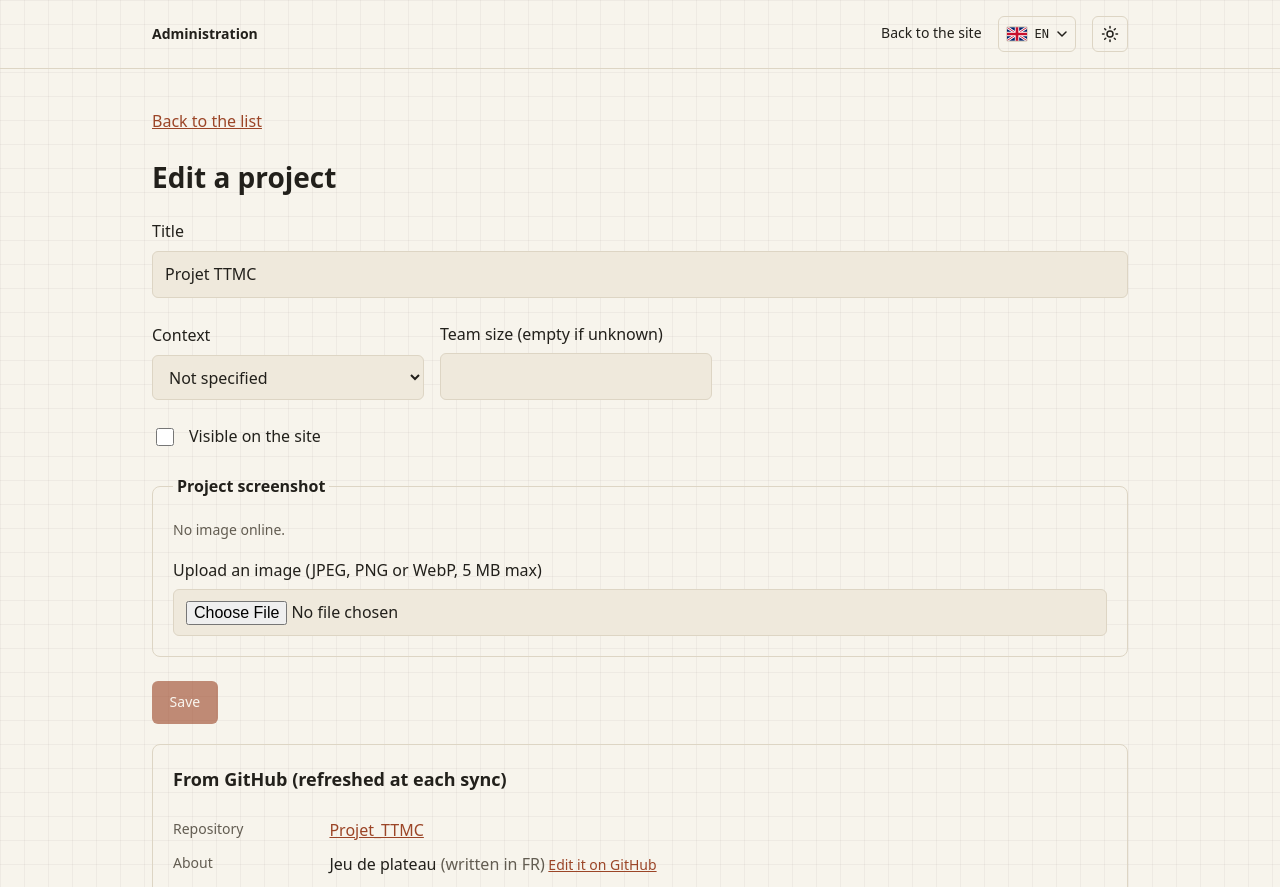
Test: project editor › edits the details and saves them
Replace the text in the field labelled "Title" with "TTMC": (640, 274) [152,251,1128,298]
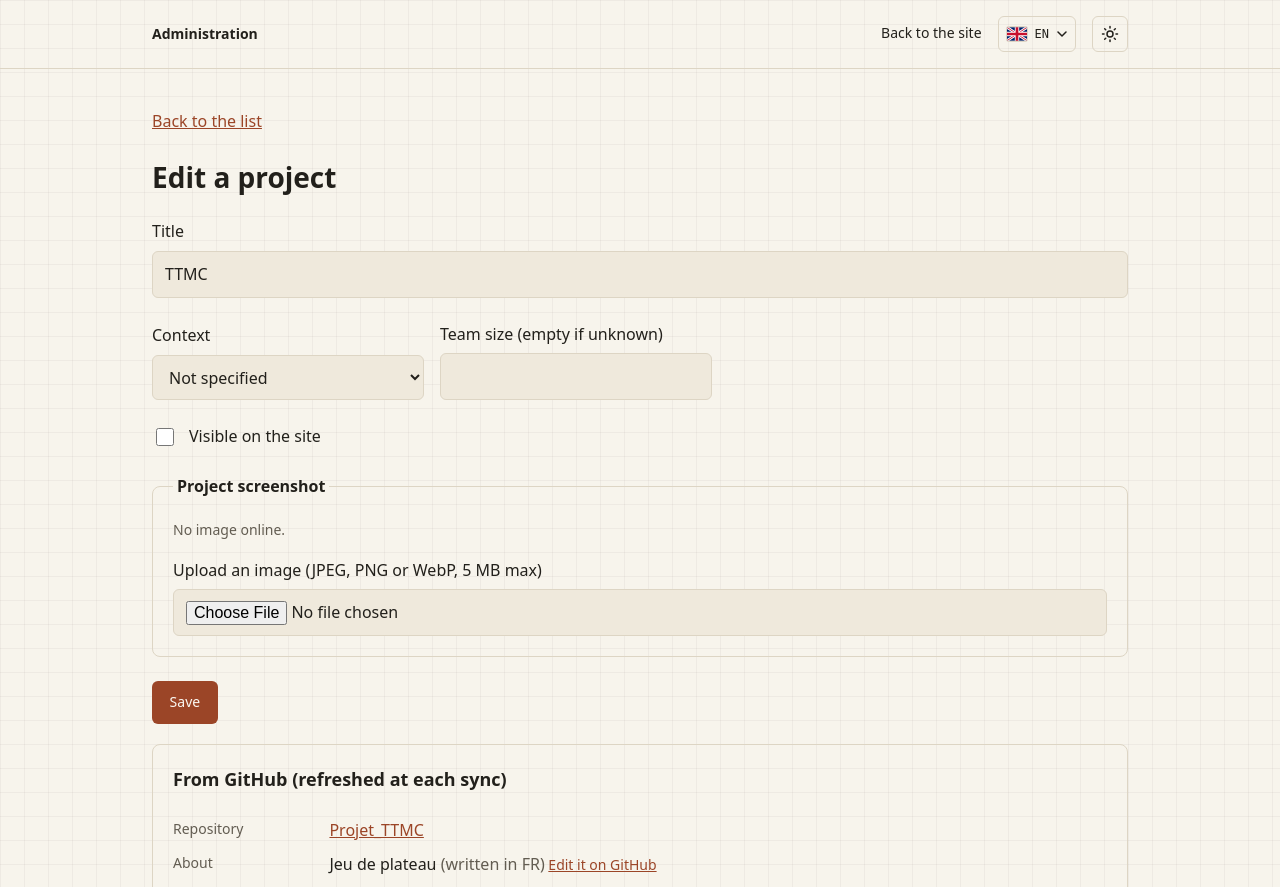
Select "School" in the dropdown labelled "Context": (288, 378) [152,355,424,400]
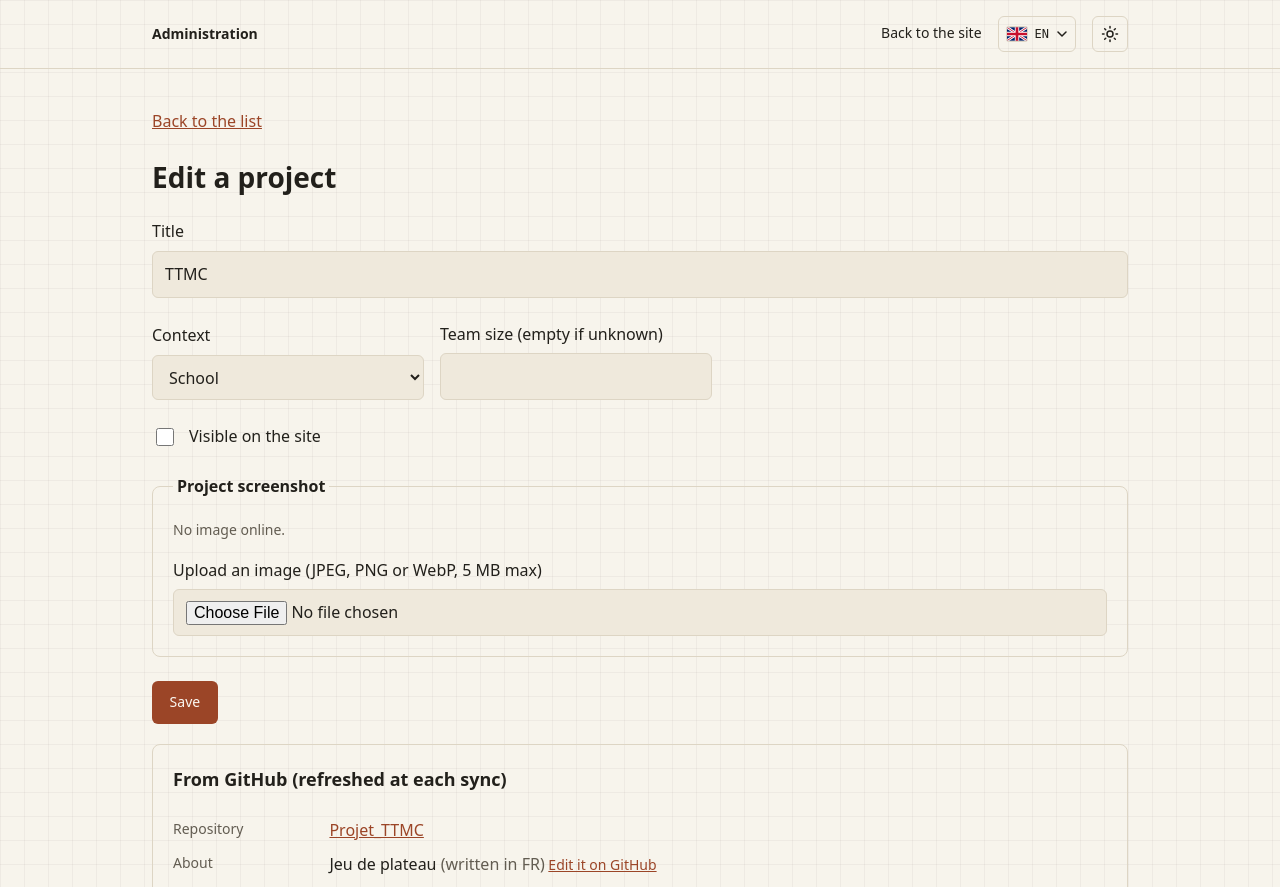
In the field labelled "Team size (empty if unknown)": (576, 377) [440,353,712,400], type "4"
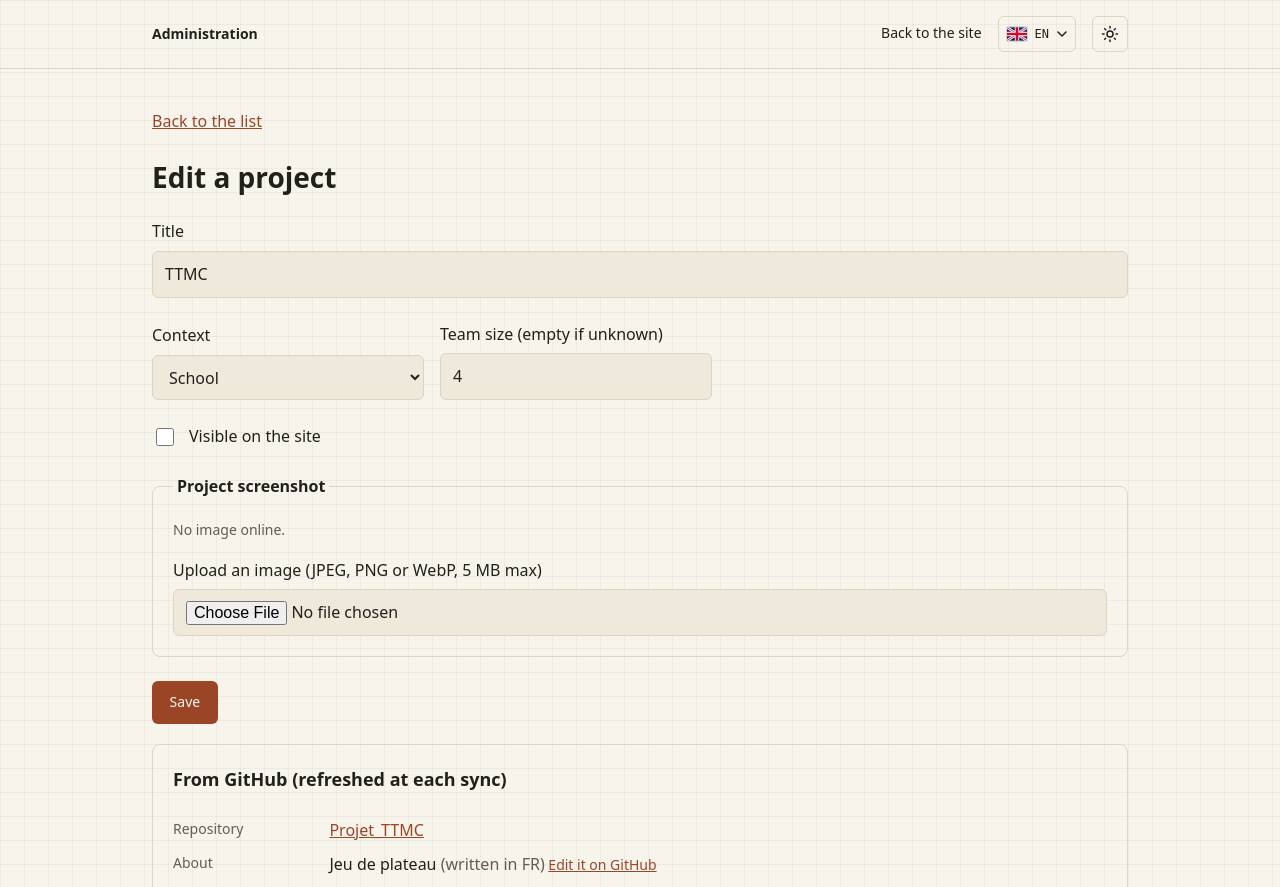
Click the checkbox labelled "Visible on the site": (165, 437) [156,428,174,446]
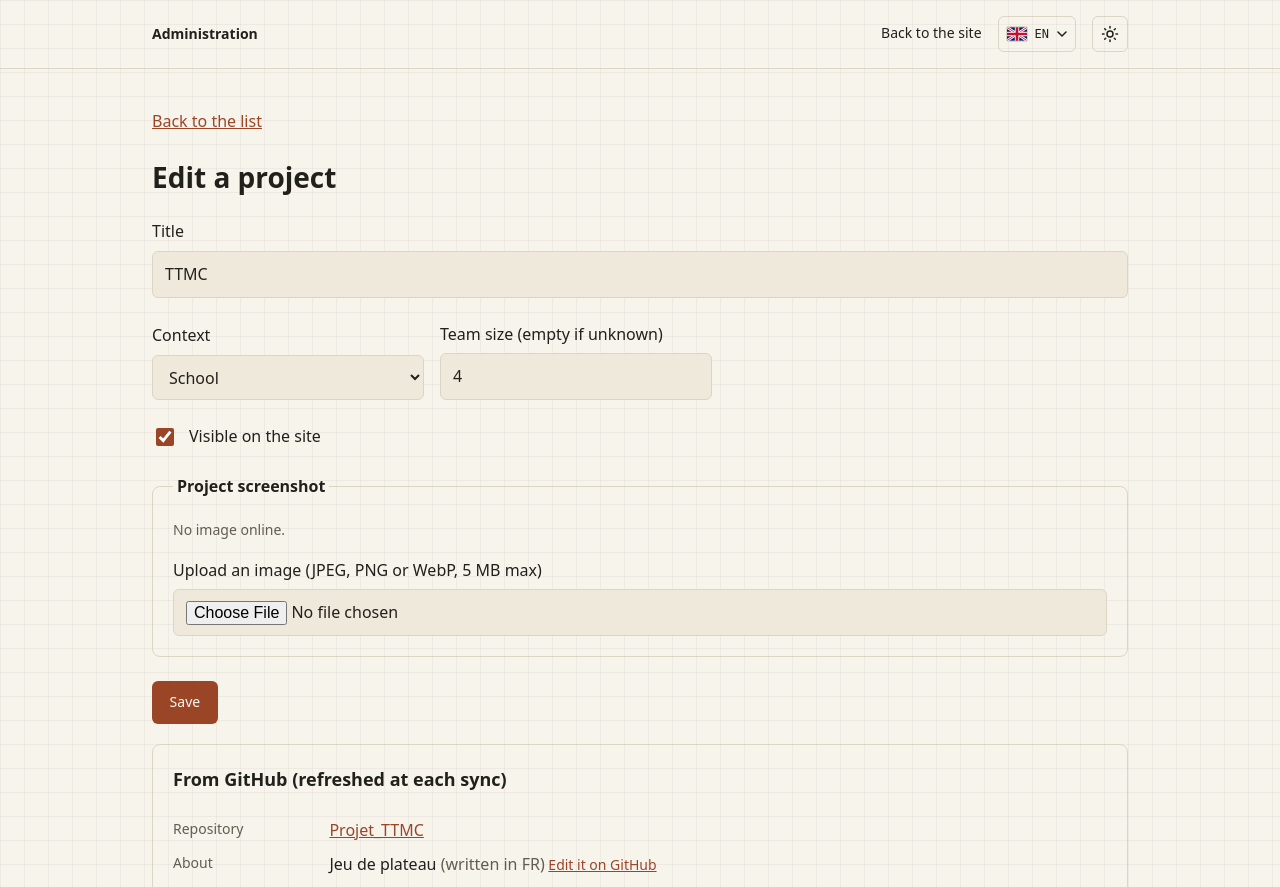
Click the button "Save": (185, 703) [152,681,218,724]
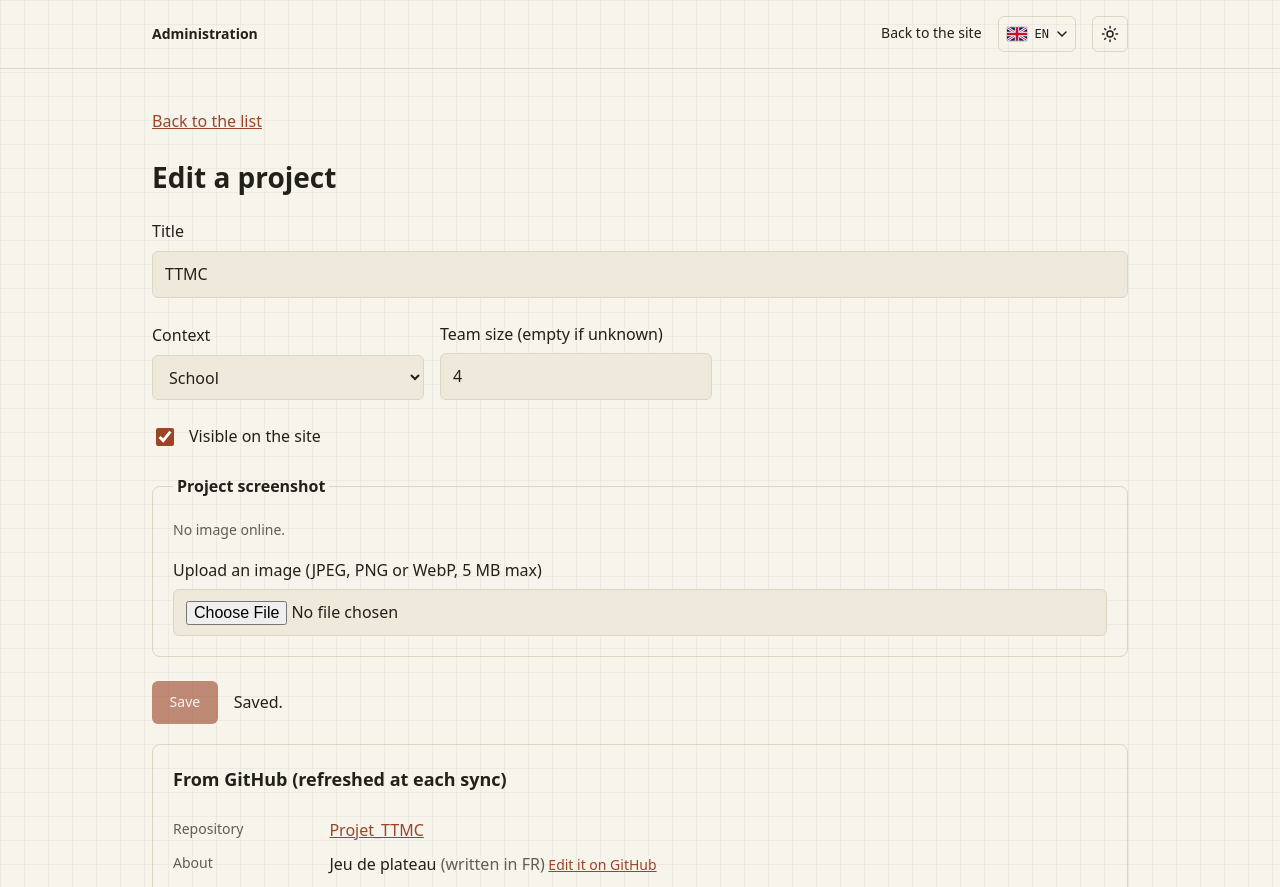
Expected: the text "Saved." is shown, [234,690,283,716]
